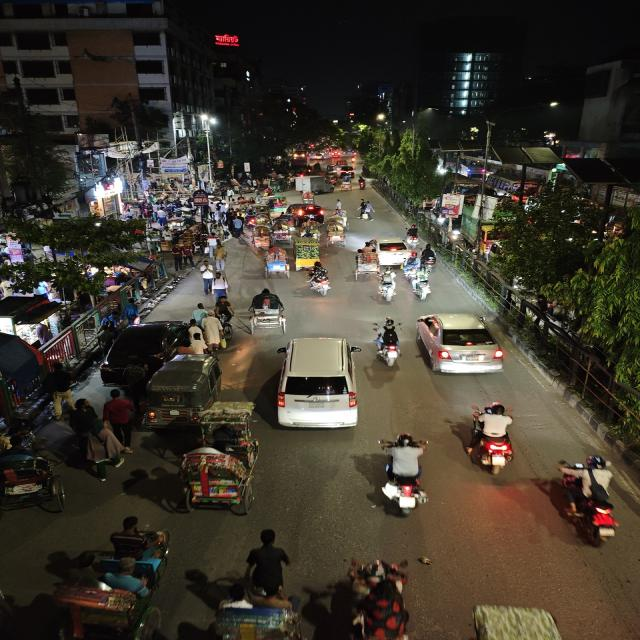car: (270, 335, 364, 435), (414, 309, 508, 379), (100, 319, 188, 373), (368, 238, 411, 265), (292, 203, 324, 222), (339, 166, 353, 176)
cng: (142, 354, 224, 428)
motorcycle: (550, 453, 626, 547), (374, 431, 435, 519), (463, 400, 523, 478), (371, 317, 403, 367), (399, 253, 432, 289), (305, 261, 334, 298), (373, 269, 399, 305), (419, 243, 439, 273), (404, 222, 421, 248), (355, 177, 367, 190)
pedestrian: (100, 386, 136, 460), (66, 398, 100, 448), (202, 312, 227, 349), (214, 296, 235, 331), (197, 260, 217, 294), (212, 272, 232, 302), (356, 198, 375, 222), (212, 245, 228, 273), (192, 301, 209, 323), (333, 198, 347, 212)
rickshaw: (42, 515, 172, 639), (172, 431, 265, 517), (0, 448, 69, 519), (245, 287, 290, 335), (255, 244, 293, 279), (352, 246, 382, 280), (322, 220, 348, 247), (295, 235, 322, 261), (269, 217, 294, 244), (265, 194, 290, 216), (339, 178, 354, 192)
truck: (296, 176, 332, 193)
